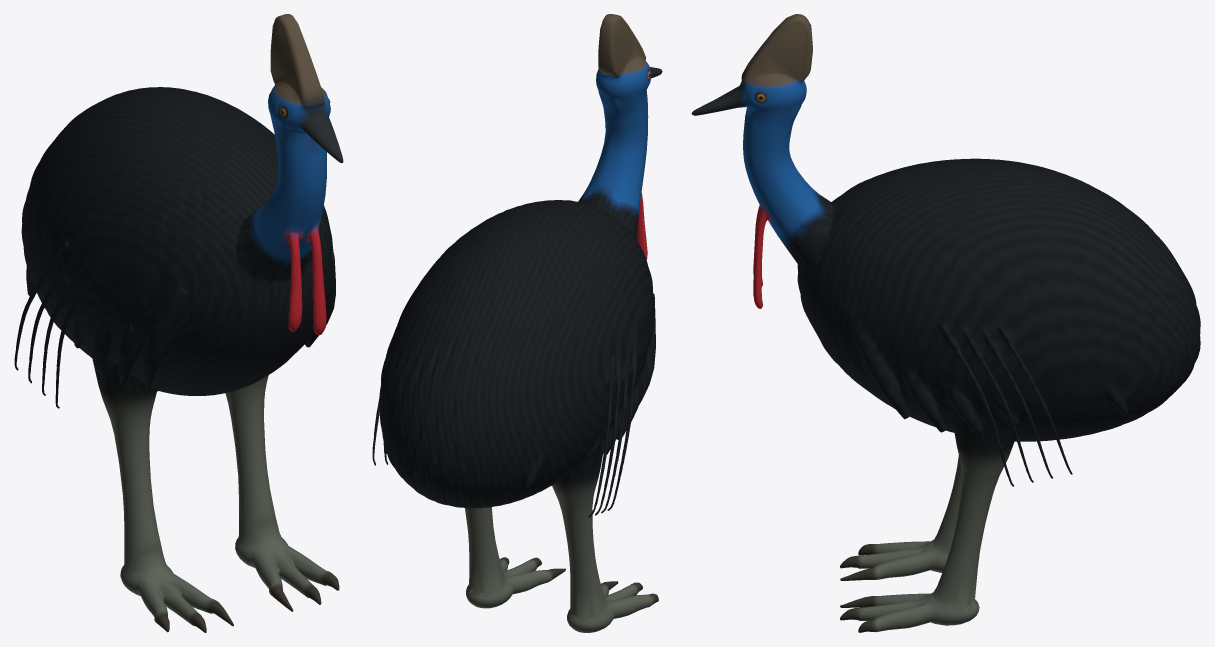
Rendered from NEW449_Southern_Cassowary_LOD1.glb.
3 renders of one model, left to right at view 1: azimuth 30°, elevation 25°; view 2: azimuth 150°, elevation 25°; view 3: azimuth 270°, elevation 25°, orthographic. The views are drawn at different scales.
Parts seen in each view (by area): view 1: NEW449_Southern_Cassowary_LOD1; view 2: NEW449_Southern_Cassowary_LOD1; view 3: NEW449_Southern_Cassowary_LOD1.
Boxes of the visible parts, box(x1,y1,x2,y2) form: NEW449_Southern_Cassowary_LOD1: box(14, 14, 343, 632); NEW449_Southern_Cassowary_LOD1: box(372, 14, 662, 632); NEW449_Southern_Cassowary_LOD1: box(691, 14, 1200, 632).
Size of the model in its own units: 0.7172 by 1.65 by 1.31.
1 material, 1 textured.
